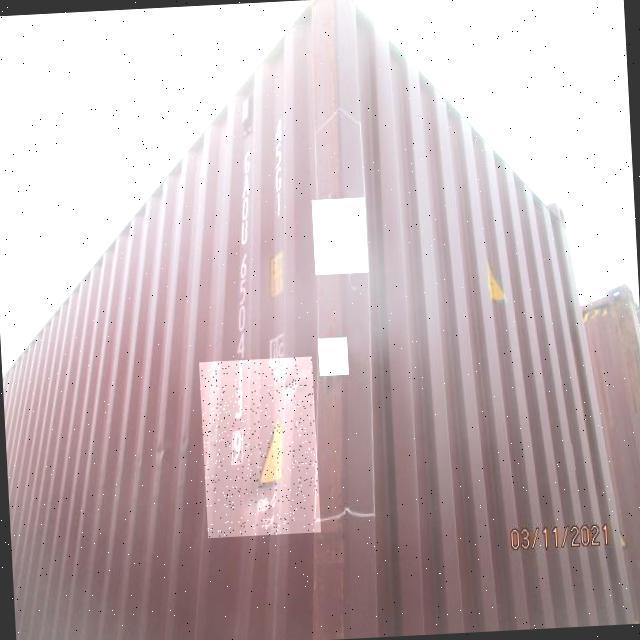Dent: (199, 357, 321, 539)
